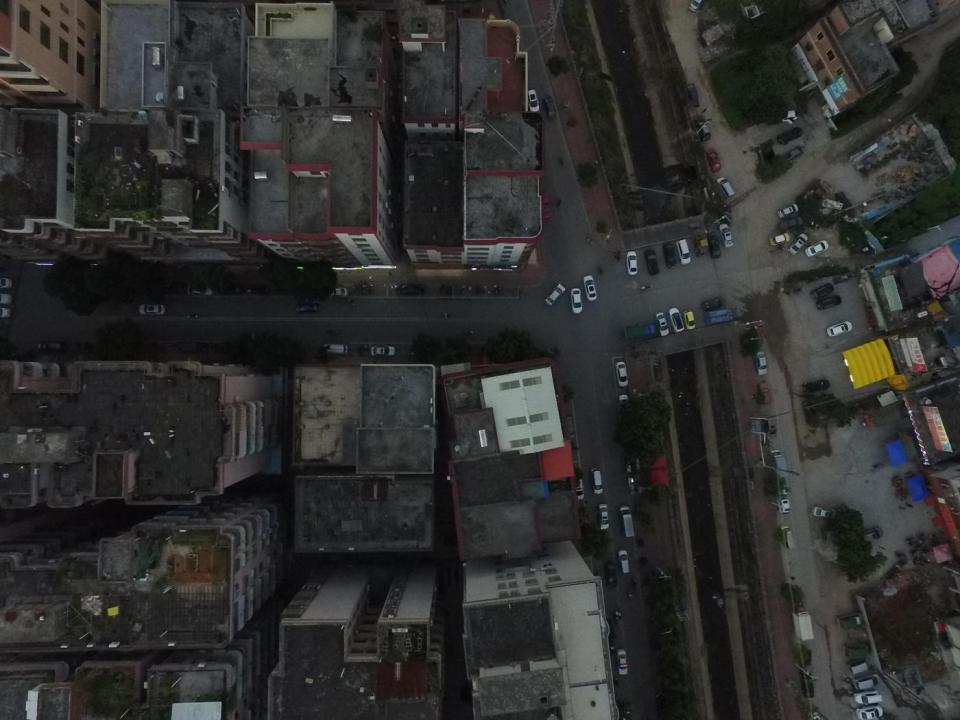car: (801, 378, 831, 395), (787, 232, 808, 256), (545, 282, 565, 306), (858, 524, 884, 542), (778, 127, 803, 145), (644, 248, 660, 276), (668, 306, 685, 332), (396, 282, 425, 297), (706, 146, 722, 173), (693, 116, 711, 140), (811, 504, 838, 520), (778, 215, 804, 231), (826, 321, 852, 337), (806, 239, 829, 257), (811, 282, 835, 299), (615, 360, 629, 389), (662, 242, 677, 269), (855, 706, 883, 720), (590, 466, 604, 494), (186, 284, 216, 297), (582, 275, 597, 301), (719, 222, 734, 248), (817, 294, 841, 310), (655, 311, 669, 338), (570, 286, 583, 314), (598, 503, 611, 531), (784, 146, 806, 162), (294, 301, 321, 314), (854, 692, 881, 705), (616, 648, 629, 675), (778, 202, 798, 219), (138, 303, 164, 316), (701, 296, 725, 310), (778, 488, 790, 516), (544, 94, 557, 119), (573, 478, 586, 503), (605, 561, 618, 586), (526, 88, 539, 112), (709, 233, 721, 259), (756, 350, 768, 376), (323, 286, 348, 298), (626, 251, 638, 276), (758, 382, 771, 405), (322, 344, 348, 355), (370, 345, 396, 356), (618, 394, 630, 417), (769, 233, 790, 246), (778, 110, 799, 123), (684, 309, 694, 329), (0, 293, 12, 305), (0, 278, 13, 289), (0, 307, 11, 319)
truck: (791, 604, 815, 641), (704, 307, 738, 327), (623, 324, 656, 342), (836, 610, 864, 630), (771, 448, 788, 480), (842, 643, 872, 659), (686, 82, 701, 110)
van: (619, 505, 635, 538), (852, 674, 879, 691), (716, 175, 736, 197), (676, 237, 692, 264), (780, 523, 796, 549), (618, 548, 630, 574), (848, 660, 869, 674), (687, 0, 703, 12)
